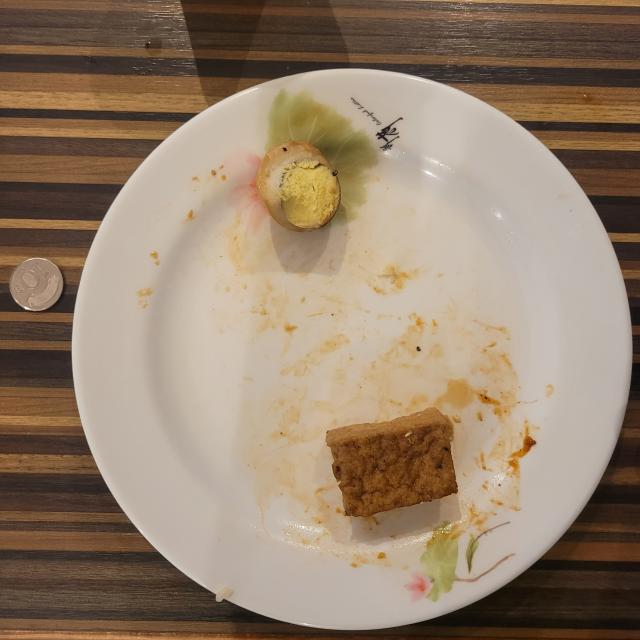coin: (10, 258, 64, 311)
egg tofu: (326, 408, 458, 516)
soy egg: (258, 141, 341, 232)
